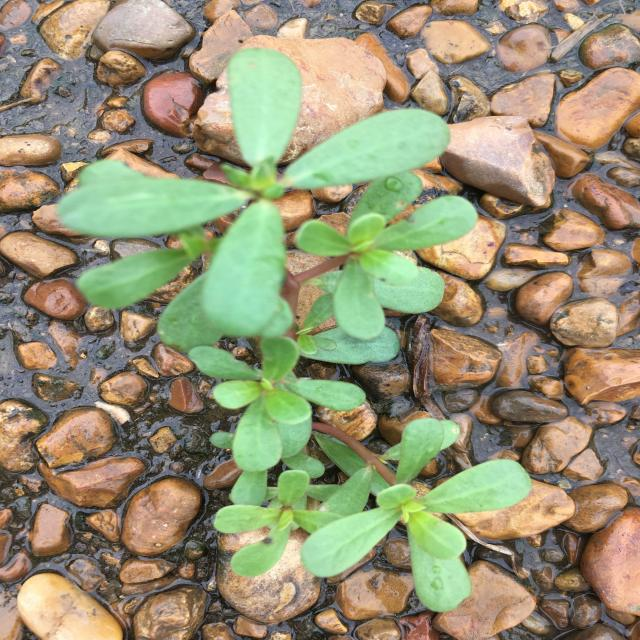Purslane: (58, 47, 533, 614)
